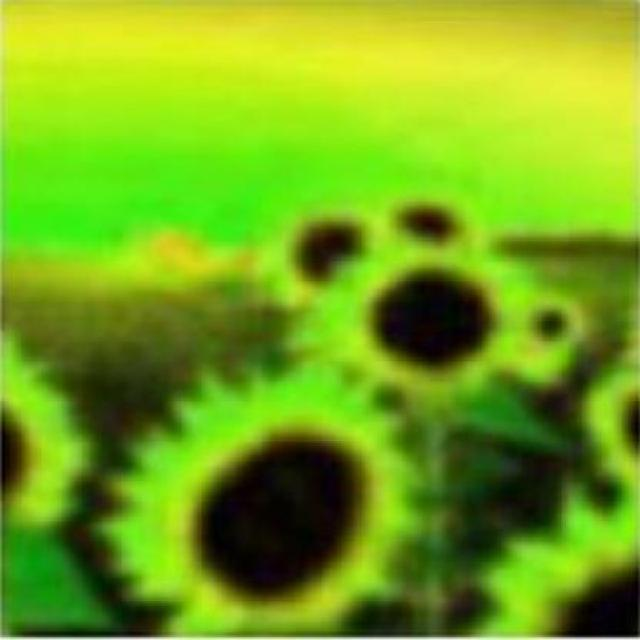sunflower: (96, 370, 409, 636), (309, 240, 523, 391)
